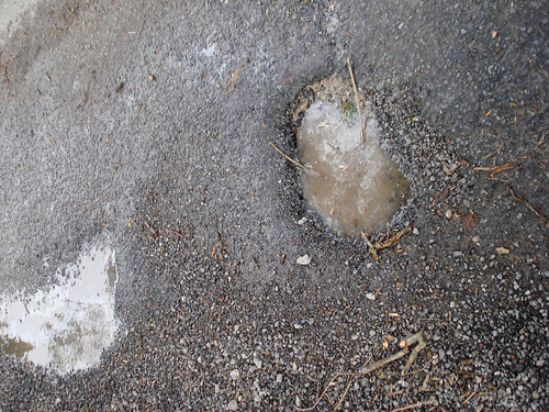pothole: (280, 66, 422, 249)
